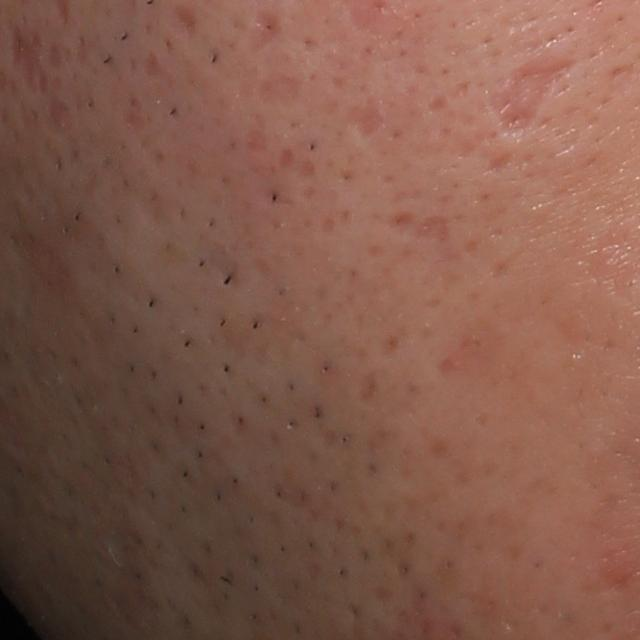atrophic_scar: (490, 58, 578, 137), (386, 209, 455, 243), (257, 68, 305, 108), (242, 8, 281, 55), (12, 29, 40, 90), (344, 100, 381, 138), (169, 5, 196, 39)
